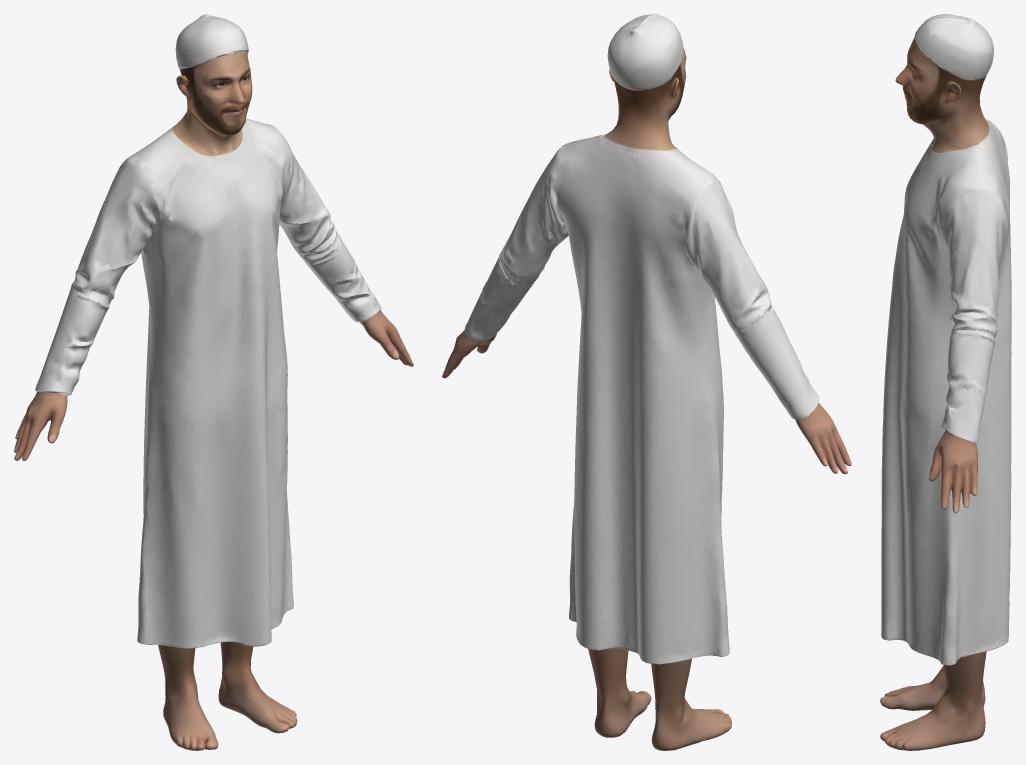
The model's file is levi_5.glb.
3 views of the same model, side by side, from view 1: azimuth 30°, elevation 25°; view 2: azimuth 150°, elevation 25°; view 3: azimuth 270°, elevation 25° (orthographic). The views are drawn at different scales.
Visible parts, largest first — view 1: Mesh; view 2: Mesh; view 3: Mesh.
Part boxes in pixels (x1=…): Mesh: x1=14, y1=14, x2=413, y2=750; Mesh: x1=442, y1=14, x2=851, y2=750; Mesh: x1=880, y1=14, x2=1011, y2=750.
Bounding box in the file's own units: 1.12 × 1.89 × 0.3186.
Materials: 1 (1 with a texture image).
